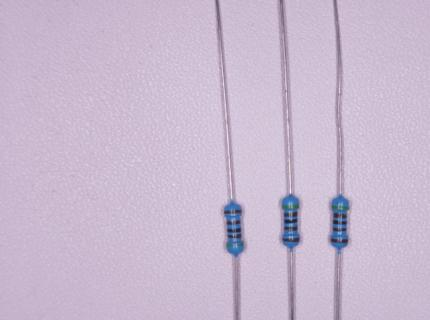Black band: (228, 227, 241, 232), (284, 219, 297, 223), (333, 220, 346, 224)
Brown band: (331, 238, 348, 243), (333, 213, 347, 218), (224, 210, 241, 214), (283, 238, 300, 242), (227, 220, 240, 225), (284, 226, 297, 231), (284, 212, 297, 217), (227, 234, 241, 238), (333, 228, 347, 231)
Green band: (283, 204, 299, 209), (227, 243, 244, 247), (332, 206, 349, 210)
